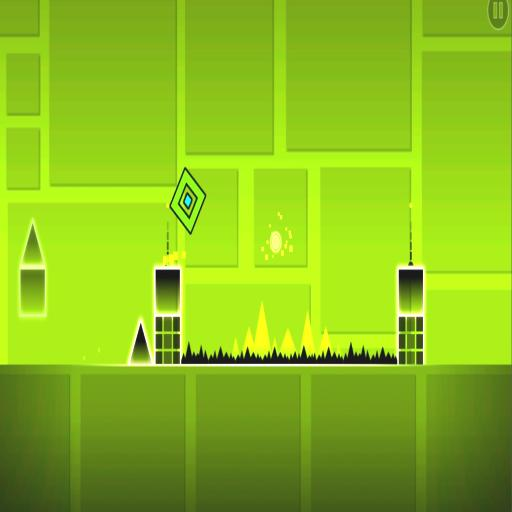block: (394, 266, 428, 368), (152, 264, 181, 368), (18, 266, 48, 321)
player: (170, 167, 206, 234)
spike: (128, 318, 153, 364), (22, 222, 44, 264), (254, 302, 270, 357), (300, 312, 314, 355), (280, 330, 296, 359), (319, 328, 332, 354), (242, 329, 253, 354), (232, 338, 238, 359), (270, 338, 277, 355), (337, 344, 341, 357)
